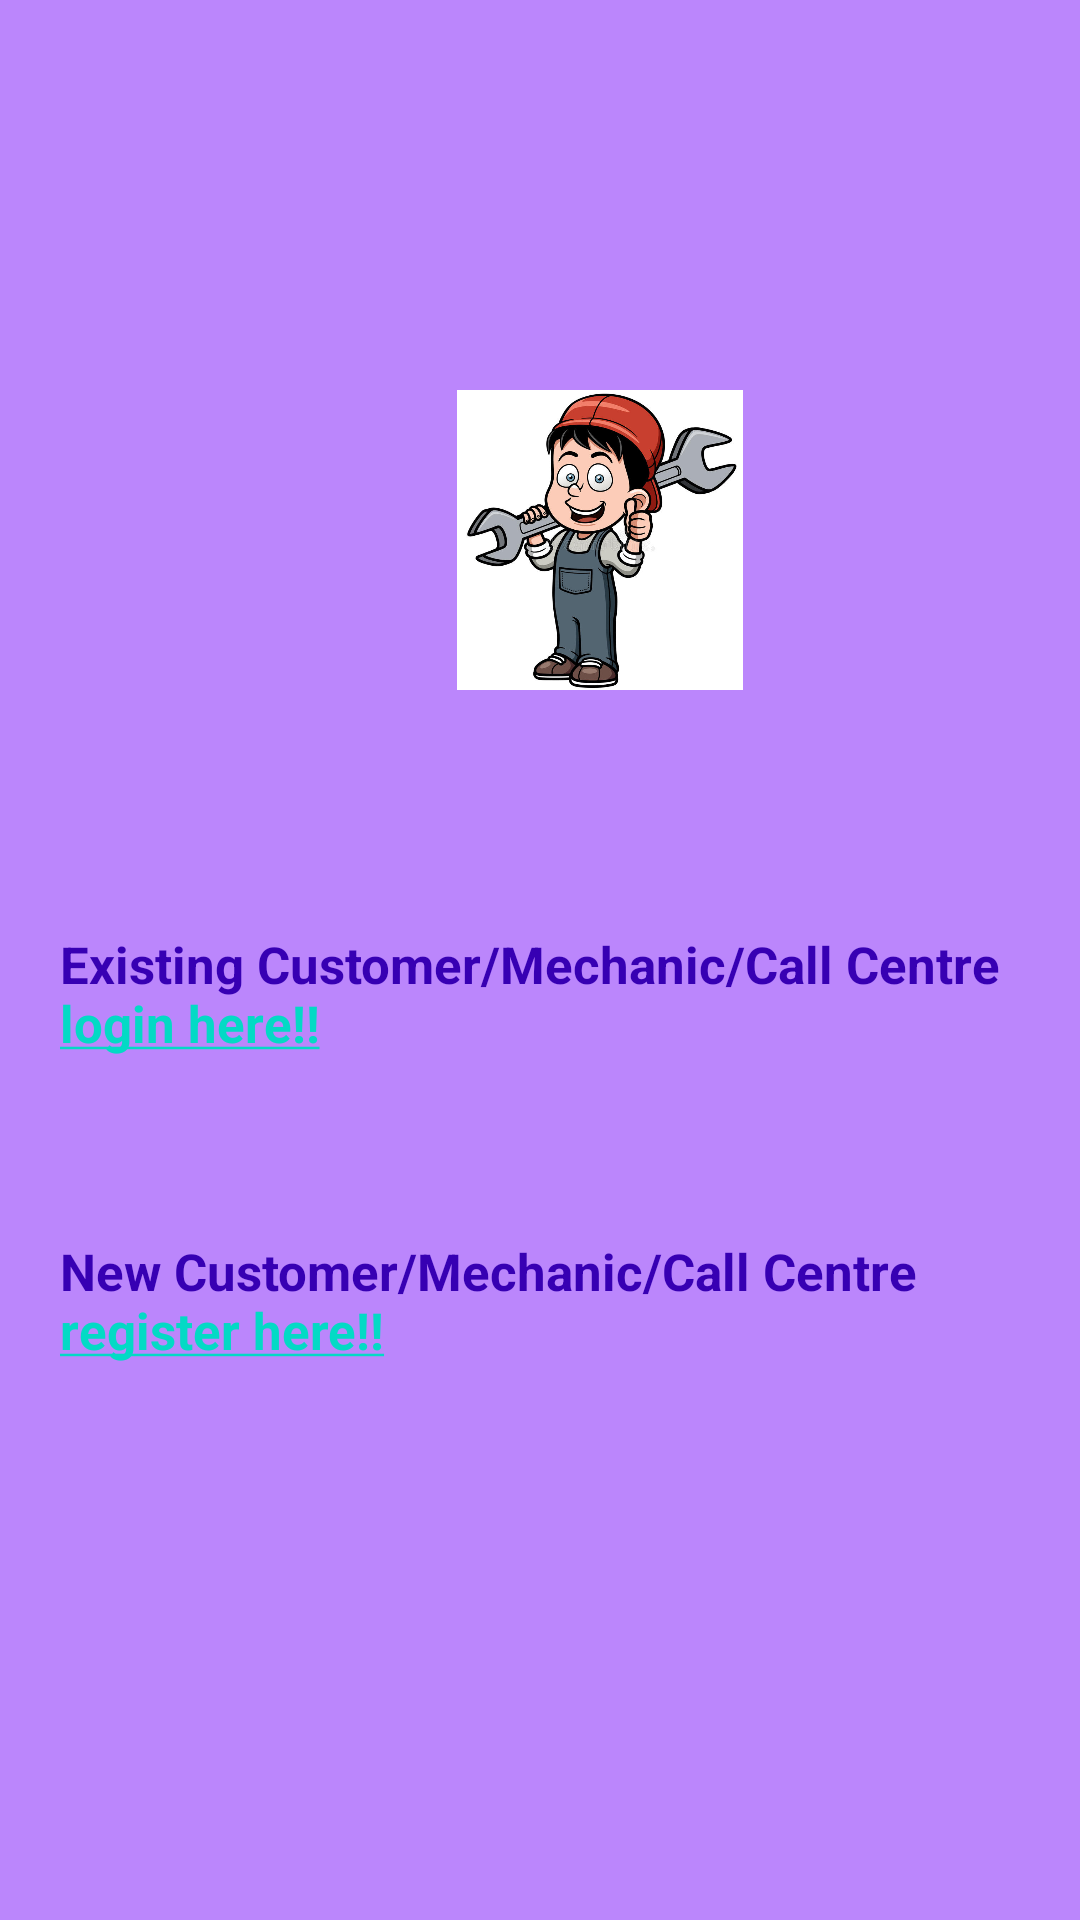

Icon click points for this 1080×1920 phone screenshot, format (x=x, y=y):
mechanic: (x=600, y=540)
